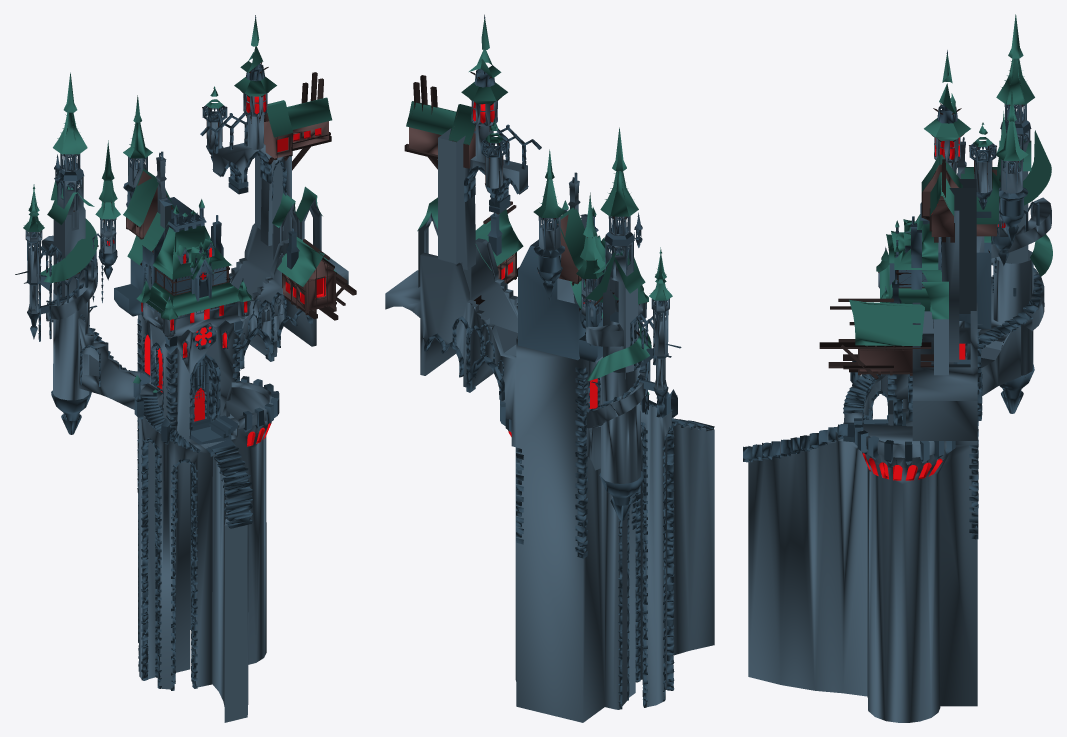
The model's file is evilCastle.glb.
3 views of the same model, side by side, from view 1: azimuth 30°, elevation 25°; view 2: azimuth 150°, elevation 25°; view 3: azimuth 270°, elevation 25° (orthographic). The views are drawn at different scales.
Parts seen in each view (by area): view 1: Cobblestone wall.012; view 2: Cobblestone wall.012; view 3: Cobblestone wall.012.
Part boxes in pixels (bbox=[...]): Cobblestone wall.012: bbox=[15, 15, 356, 722]; Cobblestone wall.012: bbox=[385, 14, 714, 722]; Cobblestone wall.012: bbox=[743, 14, 1052, 722].
Bounding box in the file's own units: 27.95 × 57.14 × 23.54.
